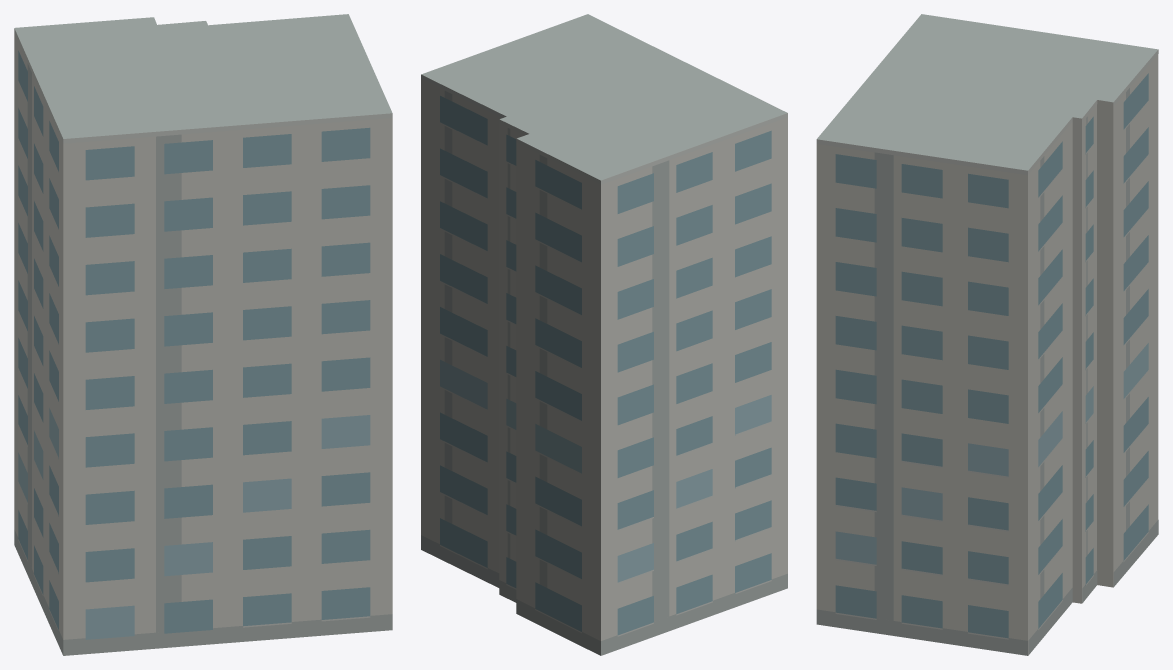
Rendered from survey-upis-32869328.glb.
3 views of the same model, side by side, from view 1: azimuth 30°, elevation 25°; view 2: azimuth 150°, elevation 25°; view 3: azimuth 270°, elevation 25° (orthographic). The views are drawn at different scales.
Parts seen in each view (by area): view 1: survey-upis-32869328.tmp; view 2: survey-upis-32869328.tmp; view 3: survey-upis-32869328.tmp.
Part boxes in pixels (left/top/right/bottom): survey-upis-32869328.tmp: left=14, top=14, right=392, bottom=655; survey-upis-32869328.tmp: left=421, top=14, right=787, bottom=655; survey-upis-32869328.tmp: left=816, top=14, right=1158, bottom=655.
Size of the model in its own units: 18.3 by 26.4 by 16.87.
